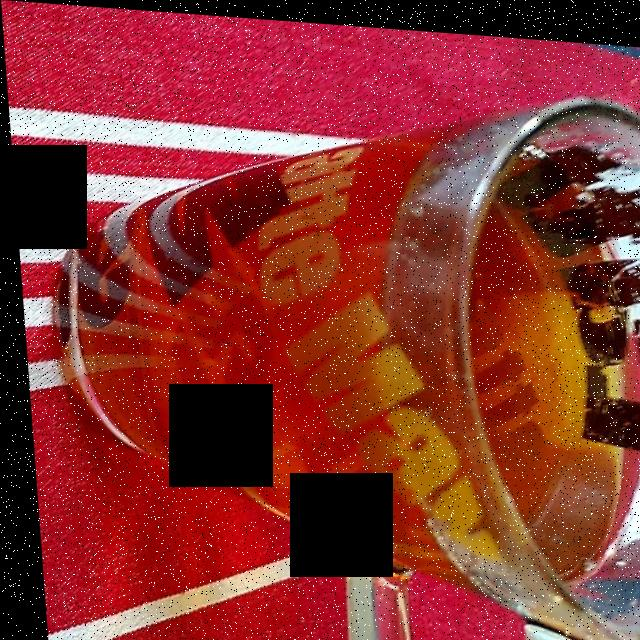tea-green: (48, 119, 624, 602)
